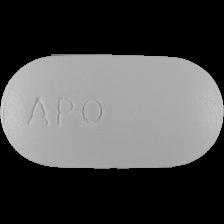53808-0516: (0, 0, 224, 224)
